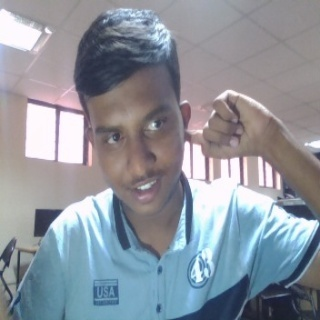Deaf: (184, 88, 279, 164)
Face: (71, 5, 191, 222)
